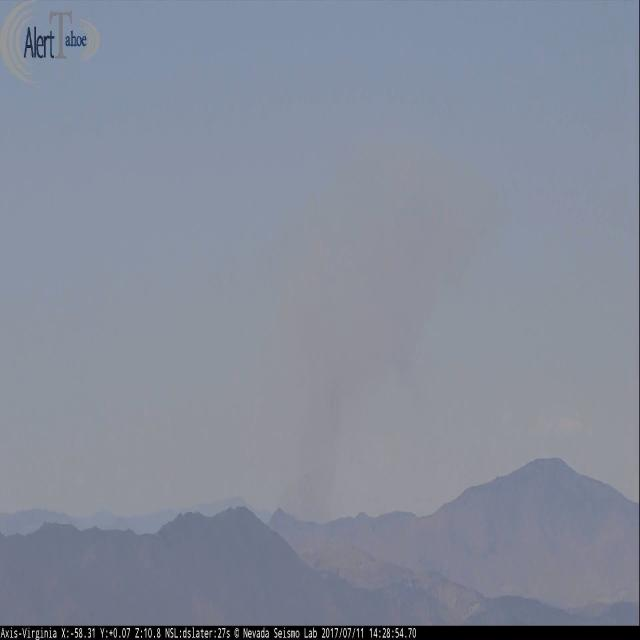smoke: (272, 141, 495, 513)
